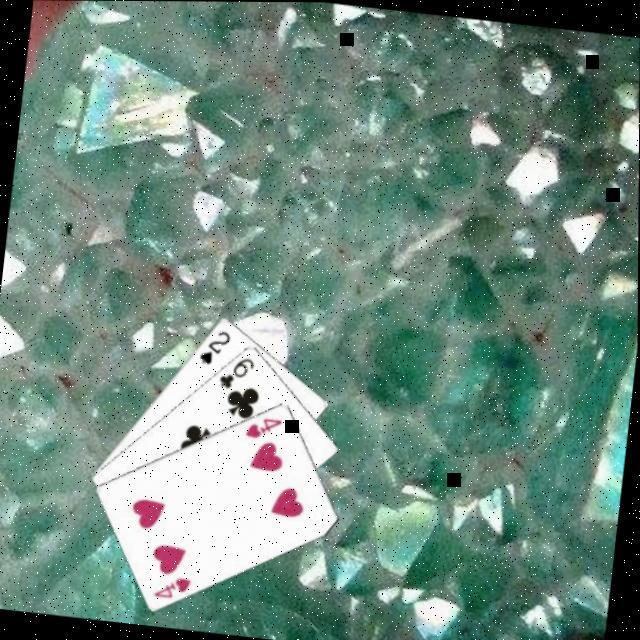2S: (194, 322, 232, 366)
4H: (148, 568, 193, 600), (240, 409, 284, 441)
6C: (213, 348, 256, 391)
